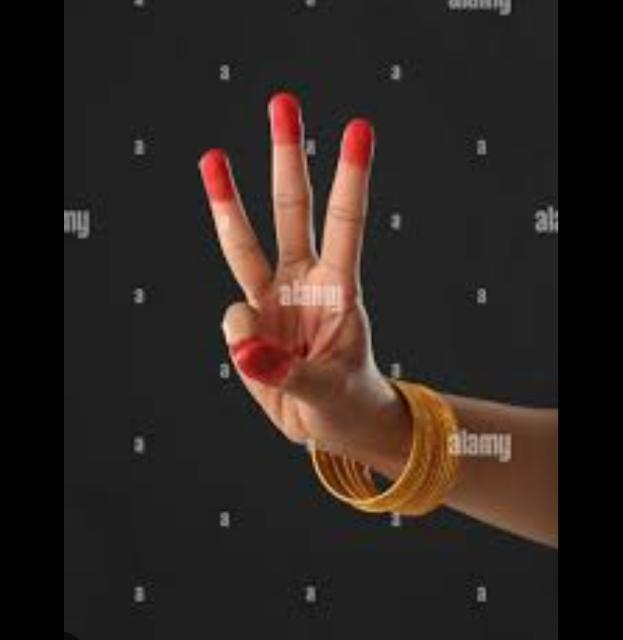trishool: (199, 95, 380, 444)
